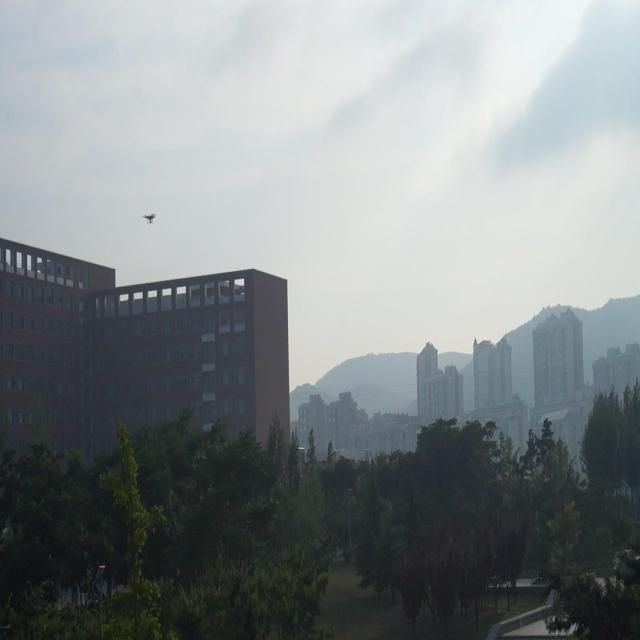drone: (140, 210, 161, 227)
